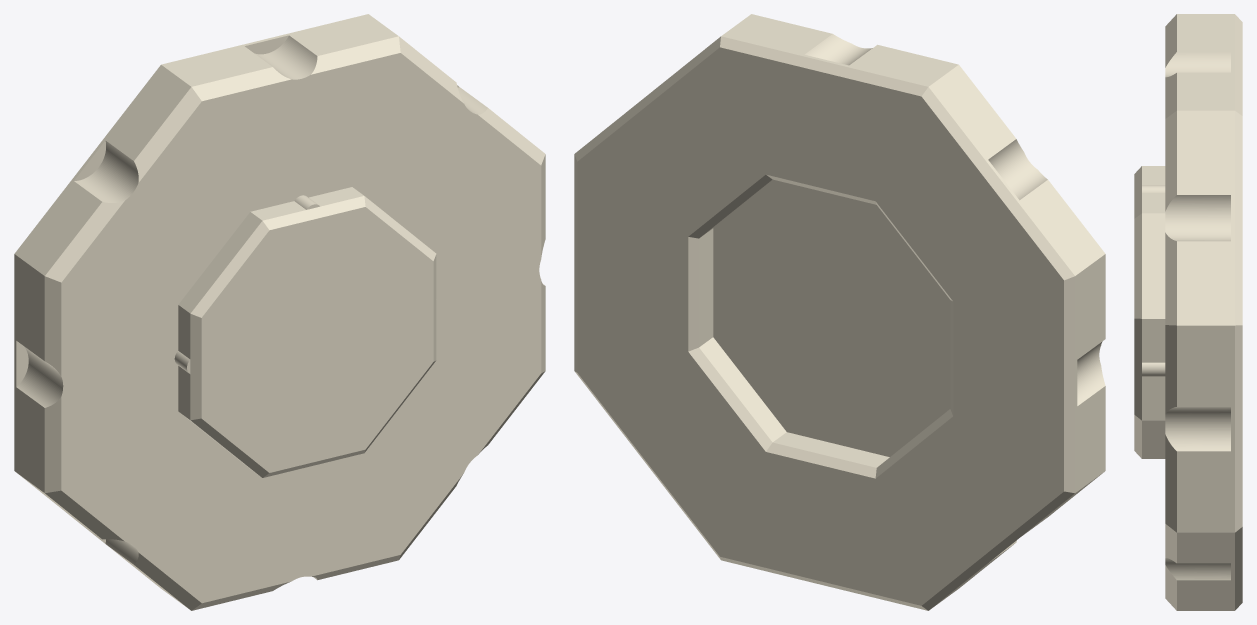
The model's file is t2@ivory.glb.
3 views of the same model, side by side, from view 1: azimuth 30°, elevation 25°; view 2: azimuth 150°, elevation 25°; view 3: azimuth 270°, elevation 25° (orthographic). The views are drawn at different scales.
Parts seen in each view (by area): view 1: geometry_0; view 2: geometry_0; view 3: geometry_0.
Boxes of the visible parts, x1,y1,x2,y2 form: geometry_0: (14,14,545,610); geometry_0: (574,14,1105,610); geometry_0: (1134,14,1242,610).
Bounding box in the file's own units: 28.5 × 28.5 × 5.6.
